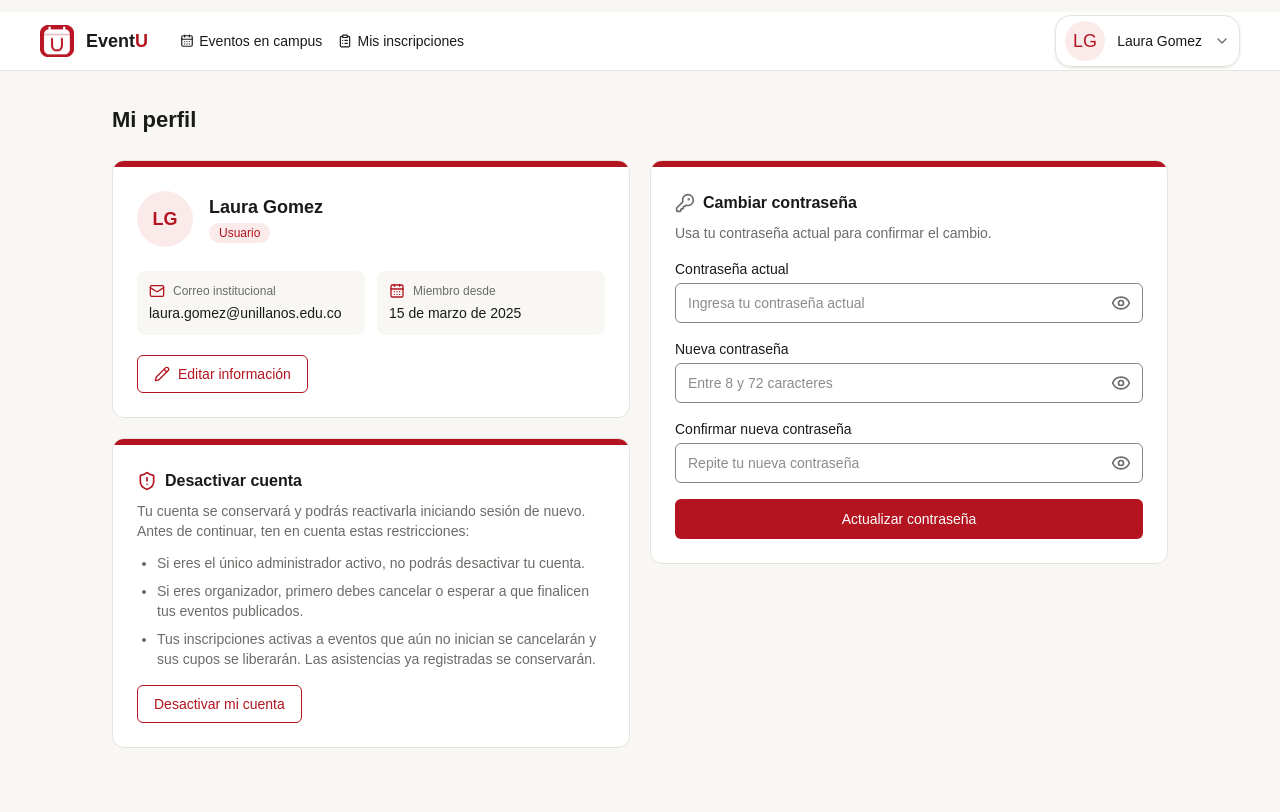
Test case: Perfil › cambia la contraseña, guarda el token renovado y conserva la sesión
Check: the heading "Laura Gomez" is shown, box [209, 196, 323, 219]
Type "clave-anterior" into the password field labelled "Contraseña actual" at (909, 303), box [675, 283, 1143, 323]
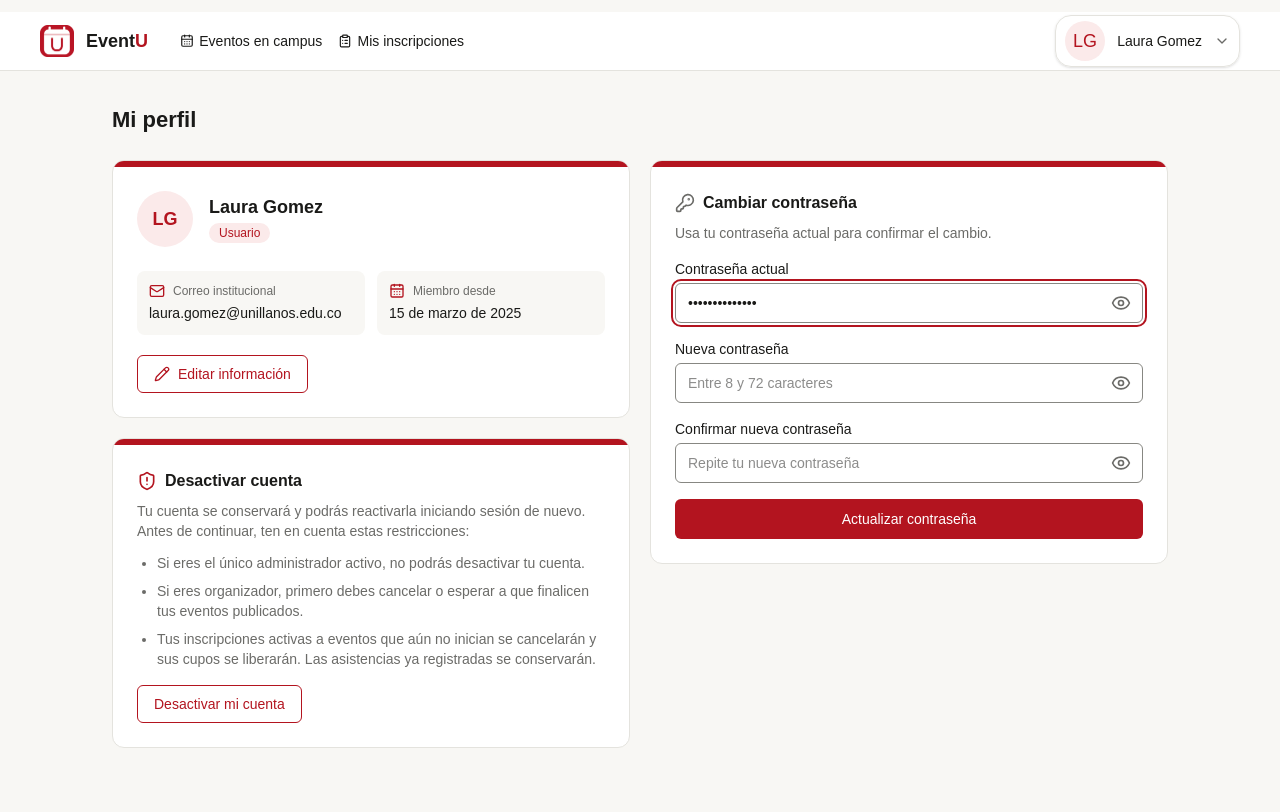
Type "clave-nueva-123" into the password field labelled "Nueva contraseña" at (909, 383), box [675, 363, 1143, 403]
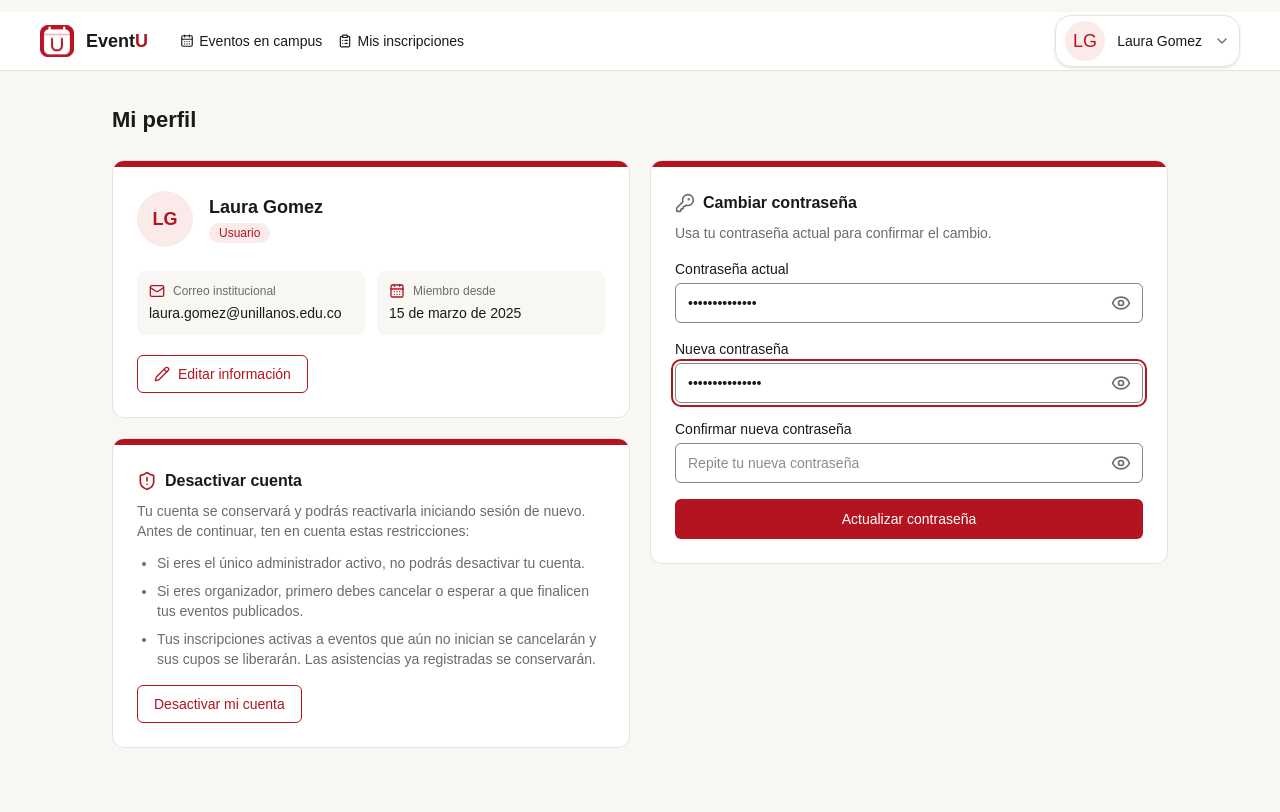
Type "clave-nueva-123" into the password field labelled "Confirmar nueva contraseña" at (909, 463), box [675, 443, 1143, 483]
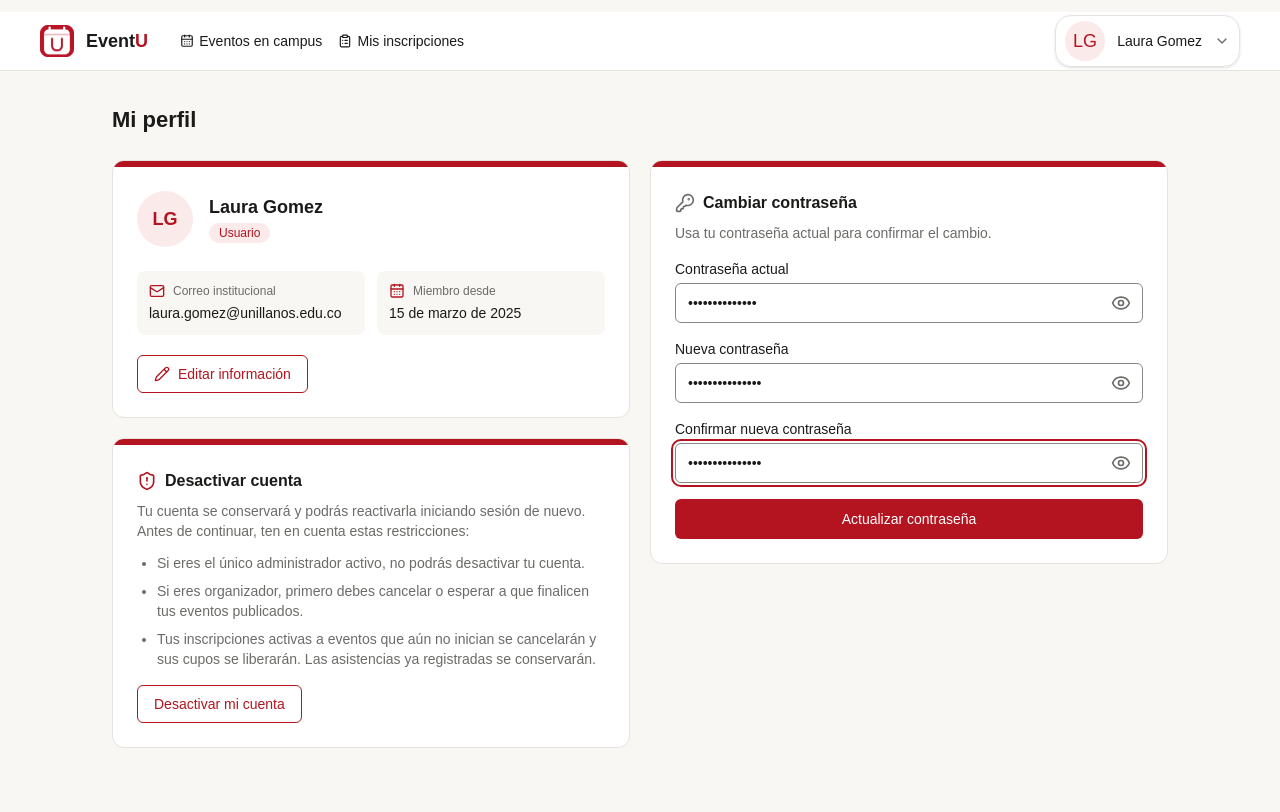
Click the button "Actualizar contraseña" at (909, 519), box [675, 499, 1143, 539]
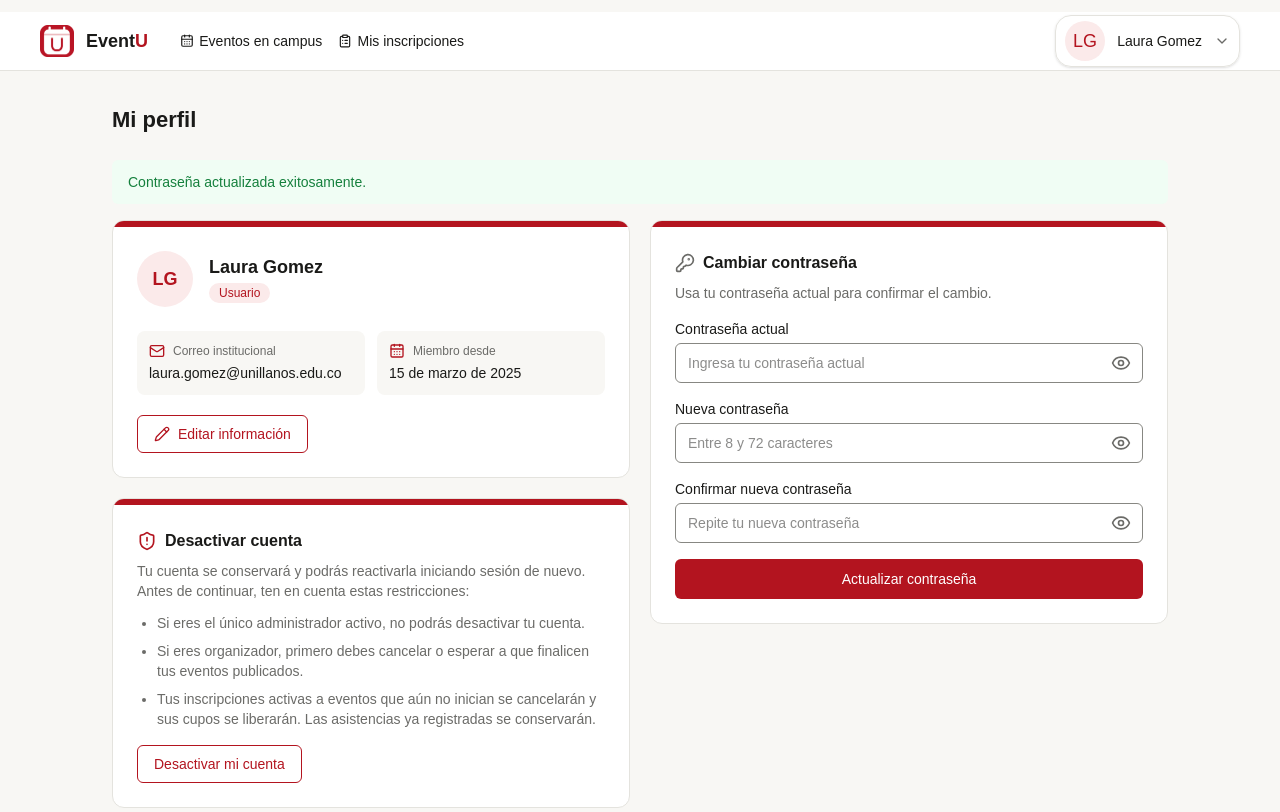
Check: the message reads "Contraseña actualizada exitosamente.", box [128, 174, 366, 190]
Check: the password field labelled "Contraseña actual" is empty, box [675, 343, 1143, 383]
Check: the password field labelled "Nueva contraseña" is empty, box [675, 423, 1143, 463]
